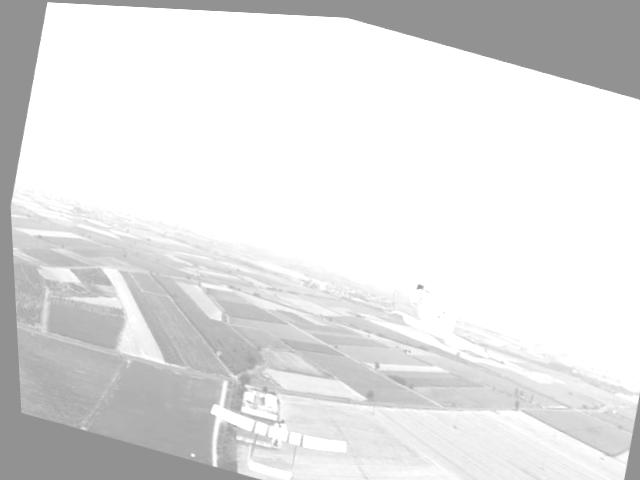hedef: (301, 222, 545, 371), (191, 387, 355, 480)
